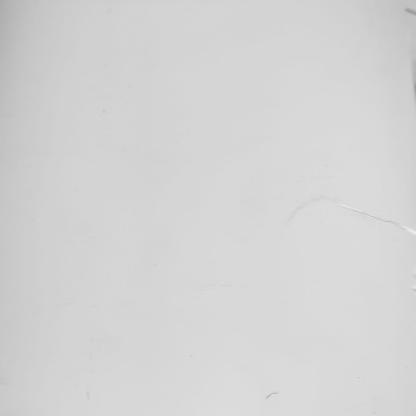sunshang: (345, 205, 416, 238)
